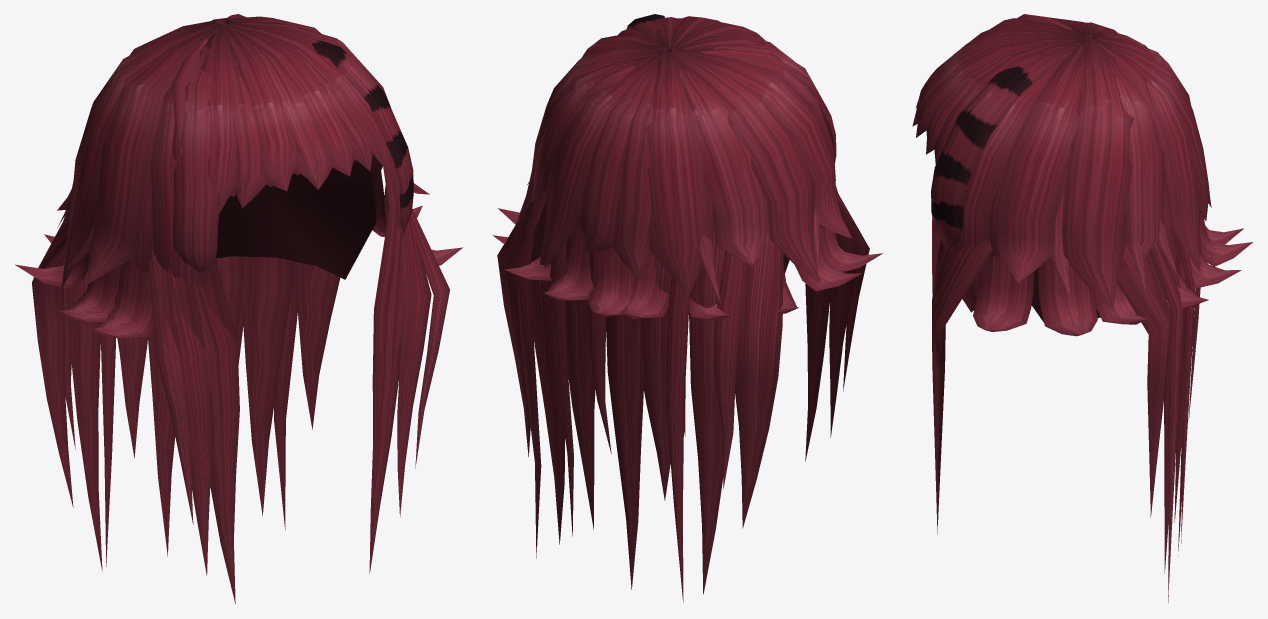
Rendered from CherryWolfHime_Hair.fbx.
The picture shows the model from 3 angles, left to right: view 1: azimuth 30°, elevation 25°; view 2: azimuth 150°, elevation 25°; view 3: azimuth 270°, elevation 25°; orthographic projection. The views are drawn at different scales.
Visible parts, largest first — view 1: CherryWolfHime_Hair; view 2: CherryWolfHime_Hair; view 3: CherryWolfHime_Hair.
Boxes of the visible parts, x1,y1,x2,y2 form: CherryWolfHime_Hair: (15,14,462,604); CherryWolfHime_Hair: (493,14,882,602); CherryWolfHime_Hair: (912,14,1252,602).
Bounding box in the file's own units: 2.22 × 3.15 × 1.85.
Materials: 1 (1 with a texture image).
